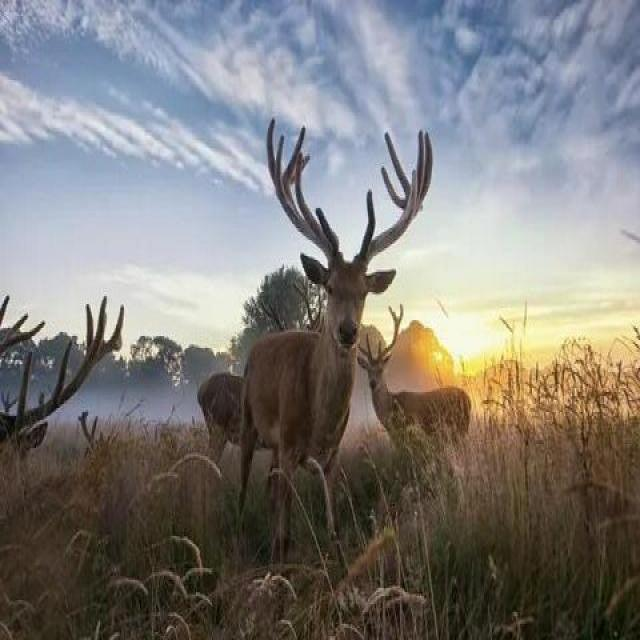deer: (186, 125, 387, 536), (0, 270, 134, 538), (354, 312, 472, 484)
